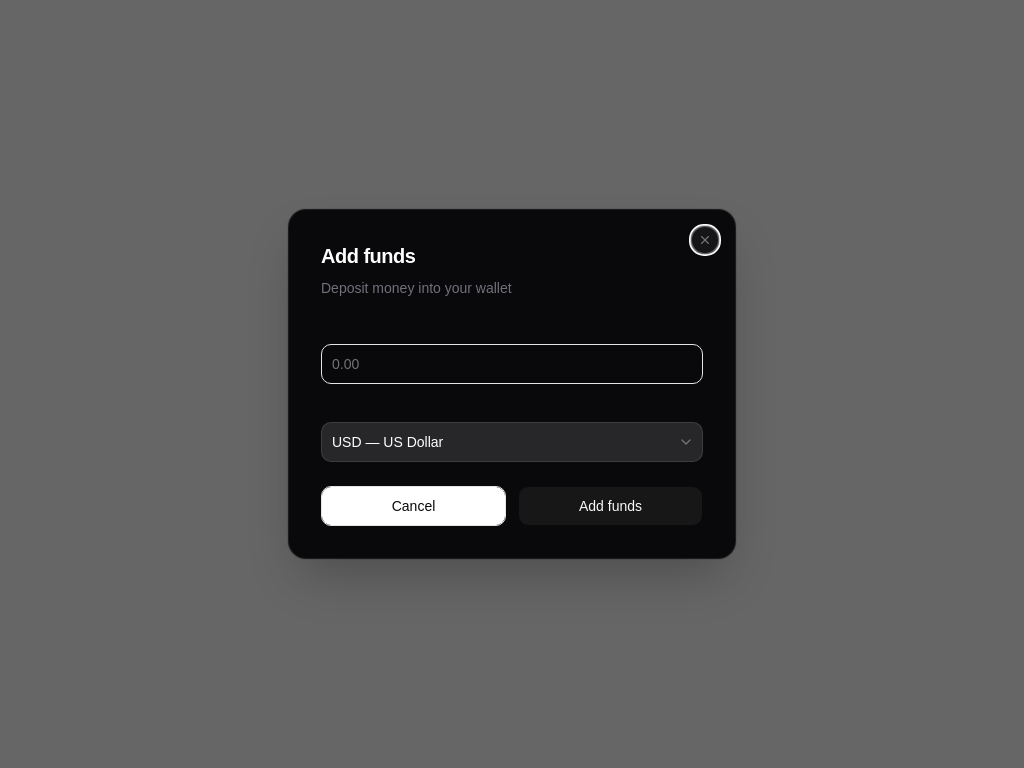
Test: AddFundsModal — form validation › shows server error when deposit fails
The width and height of the screenshot is (1024, 768).
Type "100.00" into the field labelled "Amount" at x=512, y=364, box [321,344,703,384]
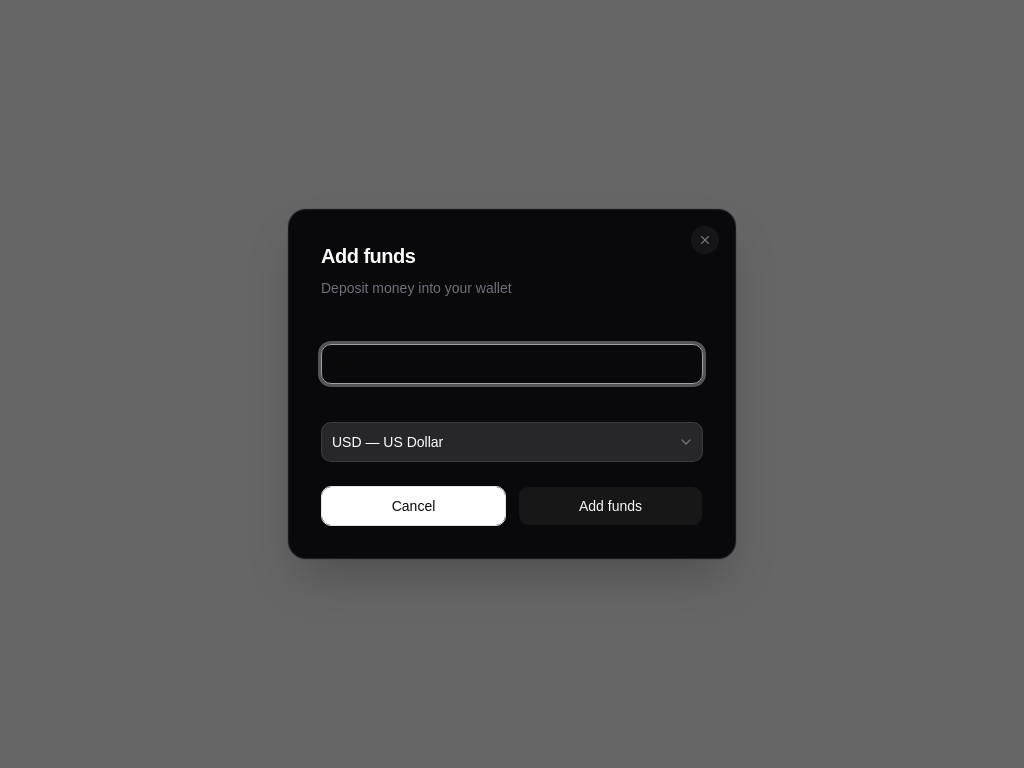
Click the button "Add funds" at x=610, y=506, box [518,486,703,526]
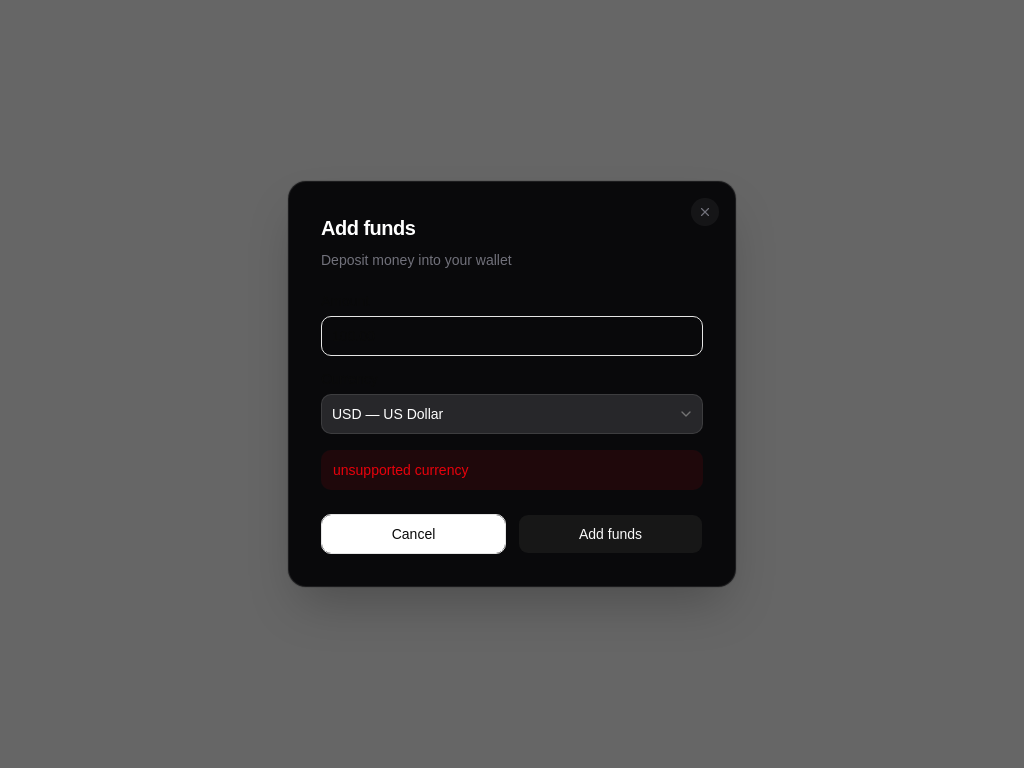
Now the text "unsupported currency" is shown, box [321,450,703,490]
